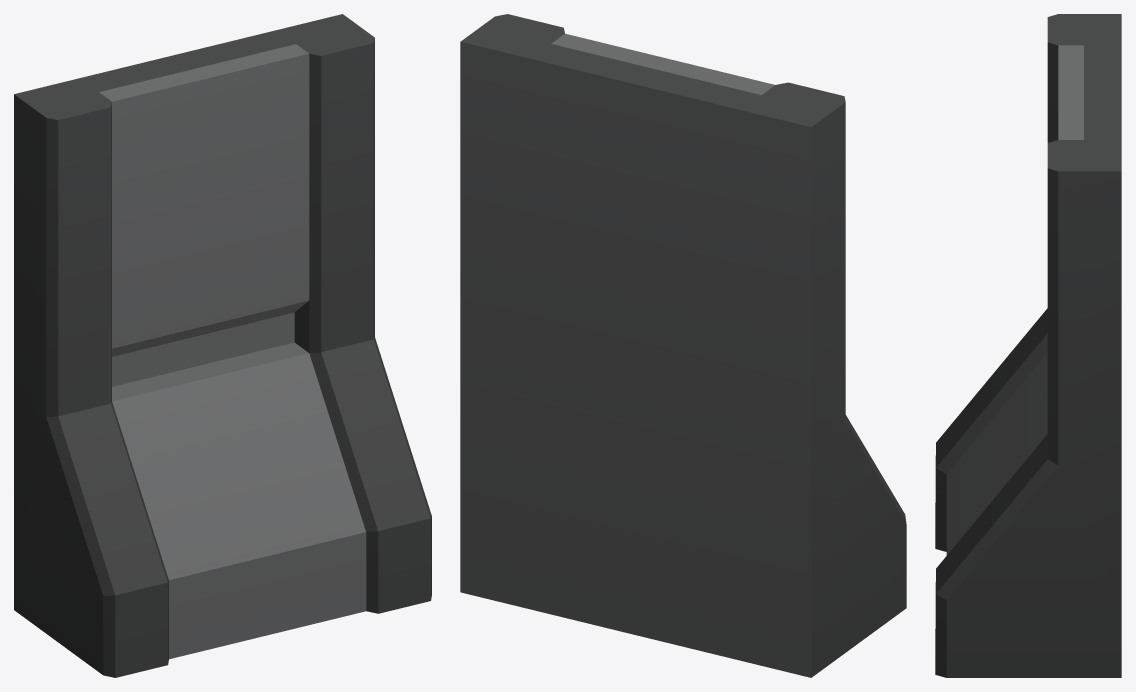
File: Wall_type_B_028.fbx
The picture shows the model from 3 angles, left to right: view 1: azimuth 30°, elevation 25°; view 2: azimuth 150°, elevation 25°; view 3: azimuth 270°, elevation 25°; orthographic projection. The views are drawn at different scales.
Parts seen in each view (by area): view 1: Wall_type_B_028; view 2: Wall_type_B_028; view 3: Wall_type_B_028.
Part boxes in pixels (x1,y1,x2,y2): Wall_type_B_028: (14, 14, 431, 677); Wall_type_B_028: (460, 14, 906, 677); Wall_type_B_028: (935, 14, 1121, 677).
Size of the model in its own units: 100 by 50 by 150.
